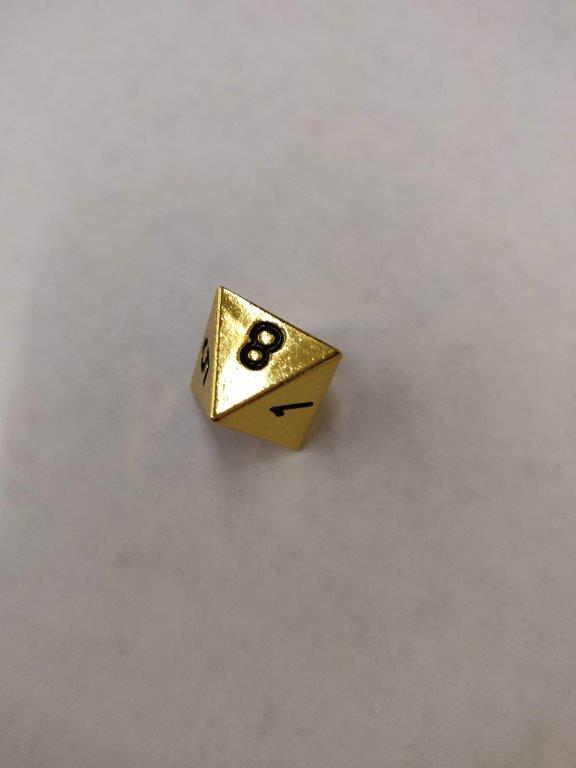d8-8: (192, 284, 341, 452)
